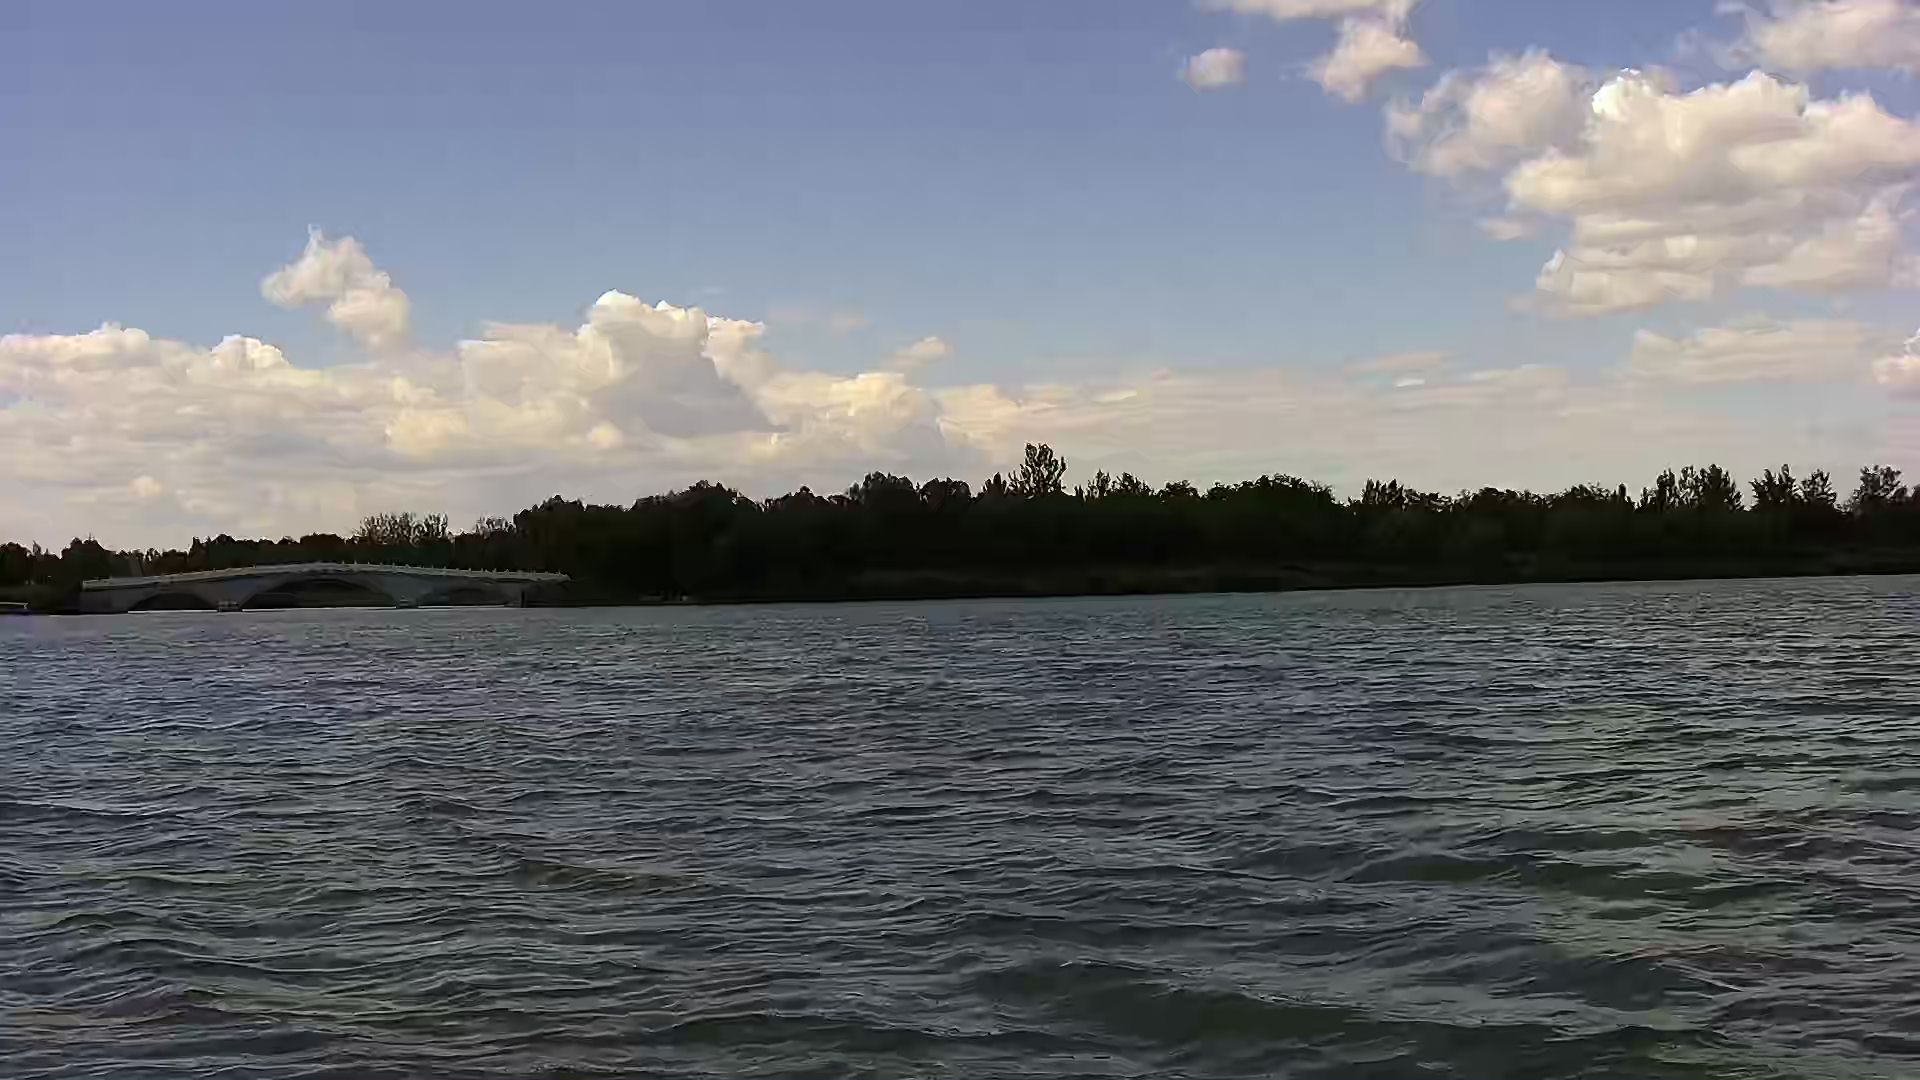bridge: (83, 556, 568, 612)
